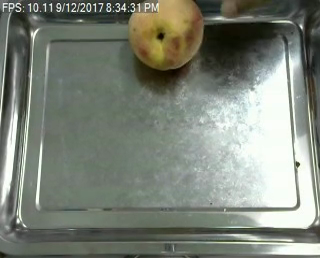Peach: (127, 0, 204, 71)
